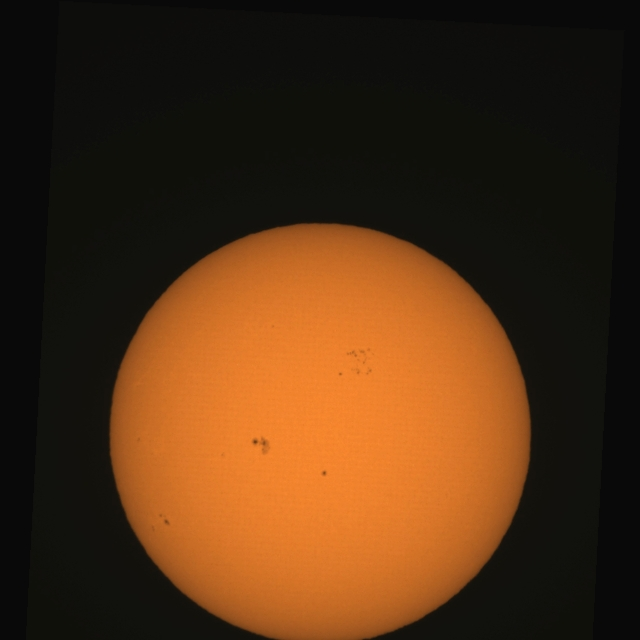sunspot: (345, 347, 374, 376), (150, 512, 171, 534), (251, 436, 272, 456), (158, 512, 170, 526), (320, 469, 328, 478), (150, 524, 156, 534), (220, 451, 226, 459), (136, 436, 142, 444), (270, 324, 276, 330), (338, 371, 343, 377)
